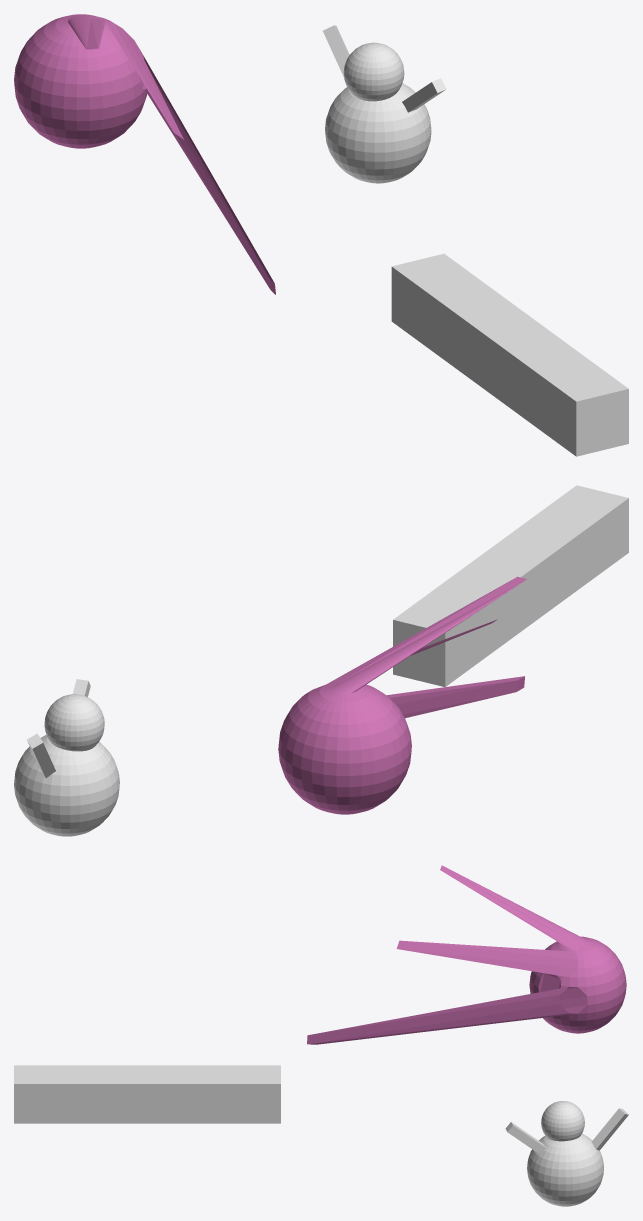
3 views of the same model, one above another, from view 1: azimuth 30°, elevation 25°; view 2: azimuth 150°, elevation 25°; view 3: azimuth 270°, elevation 25° (orthographic). The views are drawn at different scales.
Parts seen in each view (by area): view 1: Cube, Sphere, Sphere.002, Sphere.001, Cube.001, Cube.002; view 2: Cube, Sphere, Sphere.002, Sphere.001, Cube.002; view 3: Cube, Sphere, Sphere.002, Sphere.001, Cube.002, Cube.001.
Boxes of the visible parts, x1,y1,x2,y2 form: Cube: [391, 253, 628, 456]; Sphere: [14, 14, 275, 294]; Sphere.002: [325, 83, 431, 183]; Sphere.001: [343, 42, 404, 101]; Cube.001: [402, 78, 446, 112]; Cube.002: [323, 25, 349, 77]; Cube: [393, 485, 628, 686]; Sphere: [278, 576, 526, 814]; Sphere.002: [14, 735, 119, 836]; Sphere.001: [44, 694, 104, 751]; Cube.002: [27, 733, 55, 777]; Cube: [14, 1065, 280, 1123]; Sphere: [307, 865, 626, 1044]; Sphere.002: [527, 1133, 603, 1206]; Sphere.001: [541, 1101, 584, 1141]; Cube.002: [591, 1108, 628, 1150]; Cube.001: [505, 1122, 545, 1154].
Bounding box in the file's own units: 16.11 × 28.03 × 10.3.
